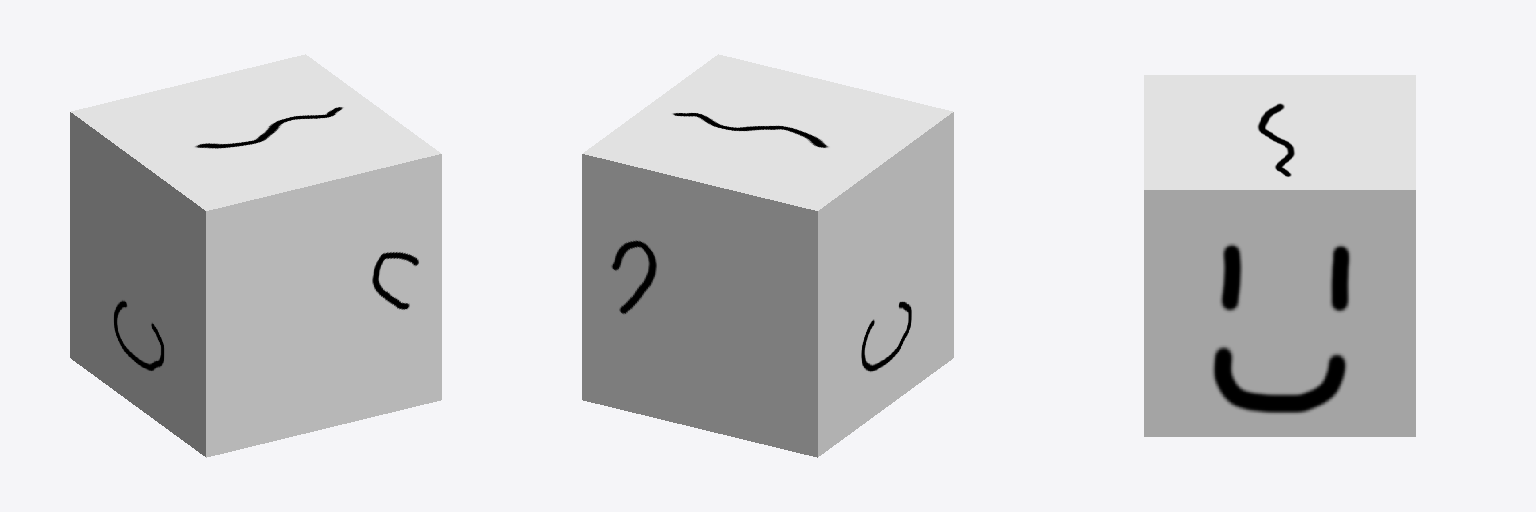
3 views of the same model, side by side, from view 1: azimuth 30°, elevation 25°; view 2: azimuth 150°, elevation 25°; view 3: azimuth 270°, elevation 25° (orthographic).
Parts seen in each view (by area): view 1: Cube; view 2: Cube; view 3: Cube.
Boxes of the visible parts, x1,y1,x2,y2 form: Cube: [70, 54, 441, 457]; Cube: [582, 54, 953, 457]; Cube: [1144, 75, 1415, 436].
Bounding box in the file's own units: 2 × 2 × 2.
Materials: 1 (1 with a texture image).